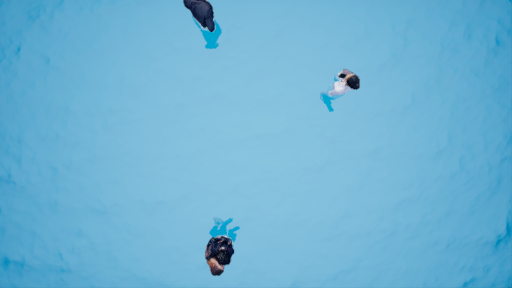person: (179, 2, 235, 51), (204, 219, 244, 281), (317, 71, 358, 117)
